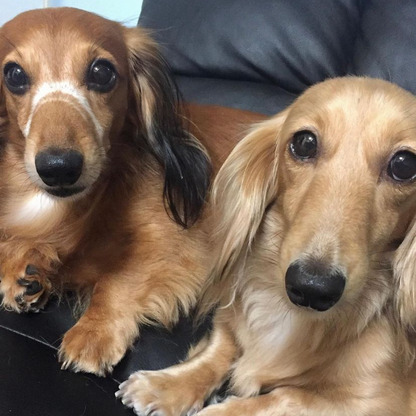dachshund: (6, 23, 206, 329), (224, 62, 407, 379)
